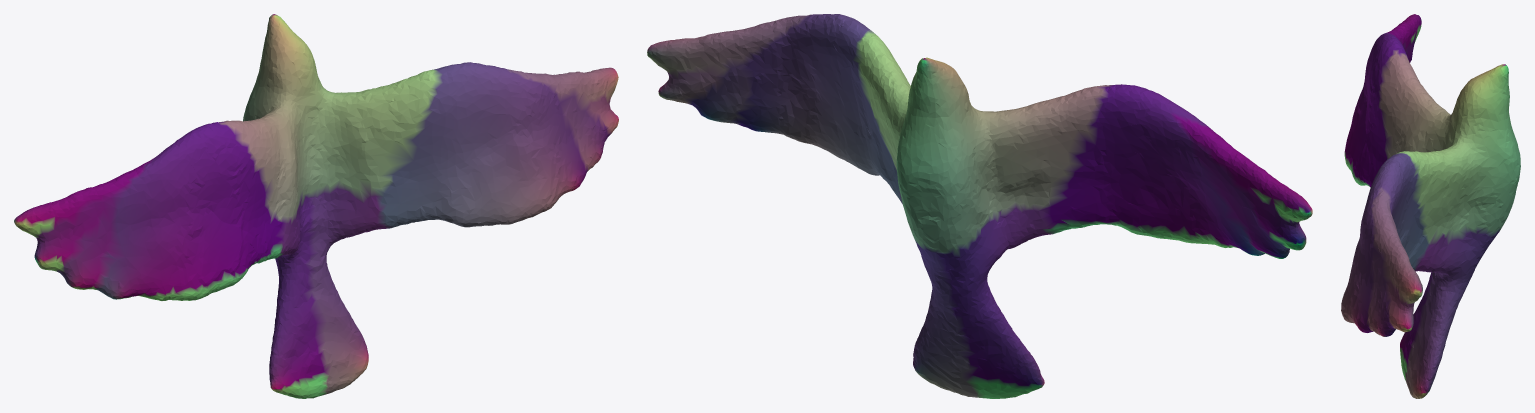
The model's file is bird1-12.off.obj.
3 renders of one model, left to right at view 1: azimuth 30°, elevation 25°; view 2: azimuth 150°, elevation 25°; view 3: azimuth 270°, elevation 25°, orthographic. The views are drawn at different scales.
Size of the model in its own units: 1.78 by 0.9741 by 0.4901.
